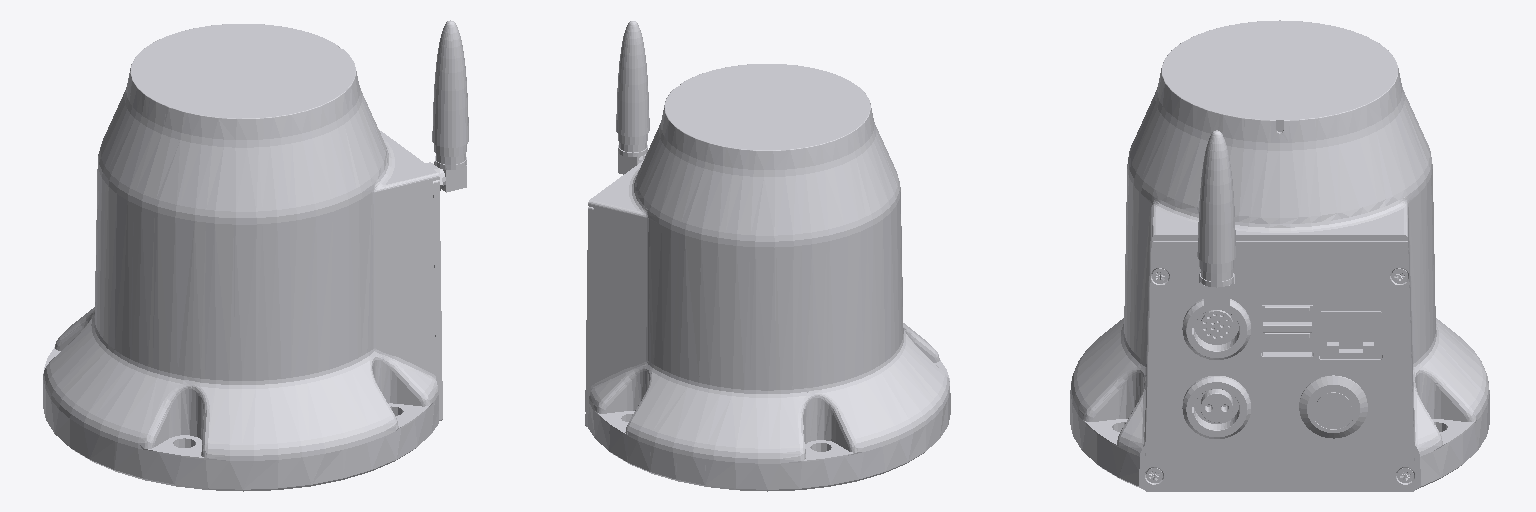
robot.urdf — RML-63-6F:
<?xml version="1.0" encoding="utf-8"?>
<!-- This URDF was automatically created by SolidWorks to URDF Exporter! Originally created by [author] ([email redacted]) 
     Commit Version: 1.6.0-1-g15f4949  Build Version: 1.6.7594.29634
     For more information, please see http://wiki.ros.org/sw_urdf_exporter -->
<robot
  name="RML-63-6F">
  <link
    name="base_link">
    <inertial>
      <origin
        xyz="0.0002051 -8.259E-05 0.043092"
        rpy="0 0 0" />
      <mass
        value="1.6314" />
      <inertia
        ixx="0.0022252"
        ixy="7.9005E-06"
        ixz="-7.7558E-05"
        iyy="0.0022156"
        iyz="5.9846E-06"
        izz="0.0018513" />
    </inertial>
    <visual>
      <origin
        xyz="0 0 0"
        rpy="0 0 0" />
      <geometry>
        <mesh
          filename="package://RML-63-6F/meshes/base_link.STL" />
      </geometry>
      <material
        name="">
        <color
          rgba="0.86667 0.86667 0.8902 1" />
      </material>
    </visual>
    <collision>
      <origin
        xyz="0 0 0"
        rpy="0 0 0" />
      <geometry>
        <mesh
          filename="package://RML-63-6F/meshes/base_link.STL" />
      </geometry>
    </collision>
  </link>
  <link
    name="Link_1">
    <inertial>
      <origin
        xyz="-0.030909 -0.0013023 -0.0053121"
        rpy="0 0 0" />
      <mass
        value="1.7668" />
      <inertia
        ixx="0.0014534"
        ixy="-0.00017578"
        ixz="0.0002802"
        iyy="0.0043772"
        iyz="1.7209E-05"
        izz="0.0040911" />
    </inertial>
    <visual>
      <origin
        xyz="0 0 0"
        rpy="0 0 0" />
      <geometry>
        <mesh
          filename="package://RML-63-6F/meshes/Link_1.STL" />
      </geometry>
      <material
        name="">
        <color
          rgba="1 1 1 1" />
      </material>
    </visual>
    <collision>
      <origin
        xyz="0 0 0"
        rpy="0 0 0" />
      <geometry>
        <mesh
          filename="package://RML-63-6F/meshes/Link_1.STL" />
      </geometry>
    </collision>
  </link>
  <joint
    name="joint_1"
    type="revolute">
    <origin
      xyz="0 0 0.1625"
      rpy="0 0 0" />
    <parent
      link="base_link" />
    <child
      link="Link_1" />
    <axis
      xyz="0 0 -1" />
    <limit
      lower="-3.107"
      upper="3.107"
      effort="100"
      velocity="1" />
  </joint>
  <link
    name="Link_2">
    <inertial>
      <origin
        xyz="0.16852 9.8217E-07 -0.077258"
        rpy="0 0 0" />
      <mass
        value="4.3415" />
      <inertia
        ixx="0.0028306"
        ixy="3.3846E-07"
        ixz="4.0484E-06"
        iyy="0.075435"
        iyz="-3.3974E-08"
        izz="0.075923" />
    </inertial>
    <visual>
      <origin
        xyz="0 0 0"
        rpy="0 0 0" />
      <geometry>
        <mesh
          filename="package://RML-63-6F/meshes/Link_2.STL" />
      </geometry>
      <material
        name="">
        <color
          rgba="0.86667 0.86667 0.8902 1" />
      </material>
    </visual>
    <collision>
      <origin
        xyz="0 0 0"
        rpy="0 0 0" />
      <geometry>
        <mesh
          filename="package://RML-63-6F/meshes/Link_2.STL" />
      </geometry>
    </collision>
  </link>
  <joint
    name="joint_2"
    type="revolute">
    <origin
      xyz="-0.086 0 0"
      rpy="-1.5708 -1.5708 0" />
    <parent
      link="Link_1" />
    <child
      link="Link_2" />
    <axis
      xyz="0 0 1" />
    <limit
      lower="-3.107"
      upper="3.107"
      effort="100"
      velocity="1" />
  </joint>
  <link
    name="Link_3">
    <inertial>
      <origin
        xyz="0.034488 -0.010948 -0.0056239"
        rpy="0 0 0" />
      <mass
        value="1.7286" />
      <inertia
        ixx="0.0014154"
        ixy="0.00068025"
        ixz="-0.00043307"
        iyy="0.0026049"
        iyz="0.00017201"
        izz="0.0028551" />
    </inertial>
    <visual>
      <origin
        xyz="0 0 0"
        rpy="0 0 0" />
      <geometry>
        <mesh
          filename="package://RML-63-6F/meshes/Link_3.STL" />
      </geometry>
      <material
        name="">
        <color
          rgba="0.86667 0.86667 0.8902 1" />
      </material>
    </visual>
    <collision>
      <origin
        xyz="0 0 0"
        rpy="0 0 0" />
      <geometry>
        <mesh
          filename="package://RML-63-6F/meshes/Link_3.STL" />
      </geometry>
    </collision>
  </link>
  <joint
    name="joint_3"
    type="revolute">
    <origin
      xyz="0.38 0 0"
      rpy="0 0 1.5708" />
    <parent
      link="Link_2" />
    <child
      link="Link_3" />
    <axis
      xyz="0 0 1" />
    <limit
      lower="-3.107"
      upper="2.531"
      effort="100"
      velocity="1" />
  </joint>
  <link
    name="Link_4">
    <inertial>
      <origin
        xyz="4.1778E-07 -0.030483 -0.19739"
        rpy="0 0 0" />
      <mass
        value="2.4734" />
      <inertia
        ixx="0.02602"
        ixy="-1.1659E-07"
        ixz="3.1323E-07"
        iyy="0.024375"
        iyz="0.0061661"
        izz="0.002958" />
    </inertial>
    <visual>
      <origin
        xyz="0 0 0"
        rpy="0 0 0" />
      <geometry>
        <mesh
          filename="package://RML-63-6F/meshes/Link_4.STL" />
      </geometry>
      <material
        name="">
        <color
          rgba="0.86667 0.86667 0.8902 1" />
      </material>
    </visual>
    <collision>
      <origin
        xyz="0 0 0"
        rpy="0 0 0" />
      <geometry>
        <mesh
          filename="package://RML-63-6F/meshes/Link_4.STL" />
      </geometry>
    </collision>
  </link>
  <joint
    name="joint_4"
    type="revolute">
    <origin
      xyz="0.069 -0.405 0"
      rpy="1.5708 0 0" />
    <parent
      link="Link_3" />
    <child
      link="Link_4" />
    <axis
      xyz="0 0 -1" />
    <limit
      lower="-3.107"
      upper="3.107"
      effort="100"
      velocity="1" />
  </joint>
  <link
    name="Link_5">
    <inertial>
      <origin
        xyz="5.2596E-06 0.025125 -0.0072574"
        rpy="0 0 0" />
      <mass
        value="0.93162" />
      <inertia
        ixx="0.0012563"
        ixy="-1.8115E-08"
        ixz="-2.4669E-09"
        iyy="0.0005379"
        iyz="-0.00017339"
        izz="0.0011134" />
    </inertial>
    <visual>
      <origin
        xyz="0 0 0"
        rpy="0 0 0" />
      <geometry>
        <mesh
          filename="package://RML-63-6F/meshes/Link_5.STL" />
      </geometry>
      <material
        name="">
        <color
          rgba="0.86667 0.86667 0.8902 1" />
      </material>
    </visual>
    <collision>
      <origin
        xyz="0 0 0"
        rpy="0 0 0" />
      <geometry>
        <mesh
          filename="package://RML-63-6F/meshes/Link_5.STL" />
      </geometry>
    </collision>
  </link>
  <joint
    name="joint_5"
    type="revolute">
    <origin
      xyz="0 0 0"
      rpy="1.5708 0 3.1416" />
    <parent
      link="Link_4" />
    <child
      link="Link_5" />
    <axis
      xyz="0 0 -1" />
    <limit
      lower="-3.107"
      upper="3.107"
      effort="100"
      velocity="1" />
  </joint>
  <link
    name="Link_6">
    <inertial>
      <origin
        xyz="-3.305E-05 -7.0431E-06 -0.023738"
        rpy="0 0 0" />
      <mass
        value="0.3056" />
      <inertia
        ixx="0.00011383"
        ixy="-3.6531E-08"
        ixz="-1.1422E-07"
        iyy="0.00011469"
        iyz="4.3479E-08"
        izz="0.00012619" />
    </inertial>
    <visual>
      <origin
        xyz="0 0 0"
        rpy="0 0 0" />
      <geometry>
        <mesh
          filename="package://RML-63-6F/meshes/Link_6.STL" />
      </geometry>
      <material
        name="">
        <color
          rgba="0.86667 0.86667 0.8902 1" />
      </material>
    </visual>
    <collision>
      <origin
        xyz="0 0 0"
        rpy="0 0 0" />
      <geometry>
        <mesh
          filename="package://RML-63-6F/meshes/Link_6.STL" />
      </geometry>
    </collision>
  </link>
  <joint
    name="joint_6"
    type="revolute">
    <origin
      xyz="0 0.1322 0"
      rpy="1.5708 0 3.1416" />
    <parent
      link="Link_5" />
    <child
      link="Link_6" />
    <axis
      xyz="0 0 -1" />
    <limit
      lower="-3.14"
      upper="3.14"
      effort="100"
      velocity="1" />
  </joint>
</robot>

--- Render facts (derived) ---
3 views of the same robot in one strip: view 1: azimuth 30°, elevation 25°; view 2: azimuth 150°, elevation 25°; view 3: azimuth 270°, elevation 25° (orthographic).
Robot: RML-63-6F — 7 links, 6 joints (6 revolute); root link base_link; default pose: all joints at 0.
Visible links, largest first — view 1: base_link; view 2: base_link; view 3: base_link.
Boxes of the visible links, x1,y1,x2,y2 form: base_link: (43,20,468,491); base_link: (585,21,950,491); base_link: (1070,20,1489,491).
Bounding box of the posed robot: 0.1162 × 0.11 × 0.1107 m (x, y, z).
Meshes: 7 distinct files referenced, 1 mesh visuals loaded (1 binary STL); not drawn: 6 (reference not matched to a file when rendering).